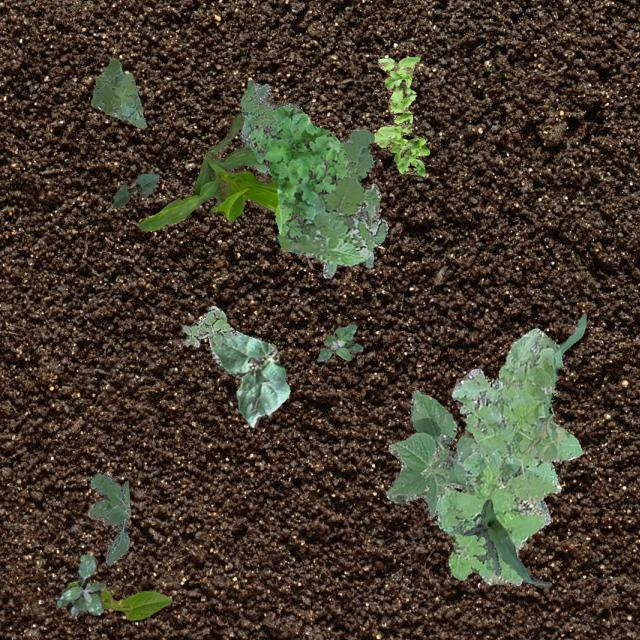crop: (386, 378, 550, 536), (138, 113, 278, 230), (207, 329, 289, 426), (462, 498, 550, 586), (68, 580, 170, 618), (112, 173, 158, 207), (558, 312, 586, 354)
weed: (434, 328, 582, 584), (276, 126, 386, 264), (244, 105, 348, 238), (304, 182, 378, 278), (372, 56, 428, 176), (240, 78, 298, 172), (86, 472, 130, 564), (90, 57, 146, 126), (56, 552, 104, 614), (182, 304, 234, 346), (316, 322, 362, 360)
